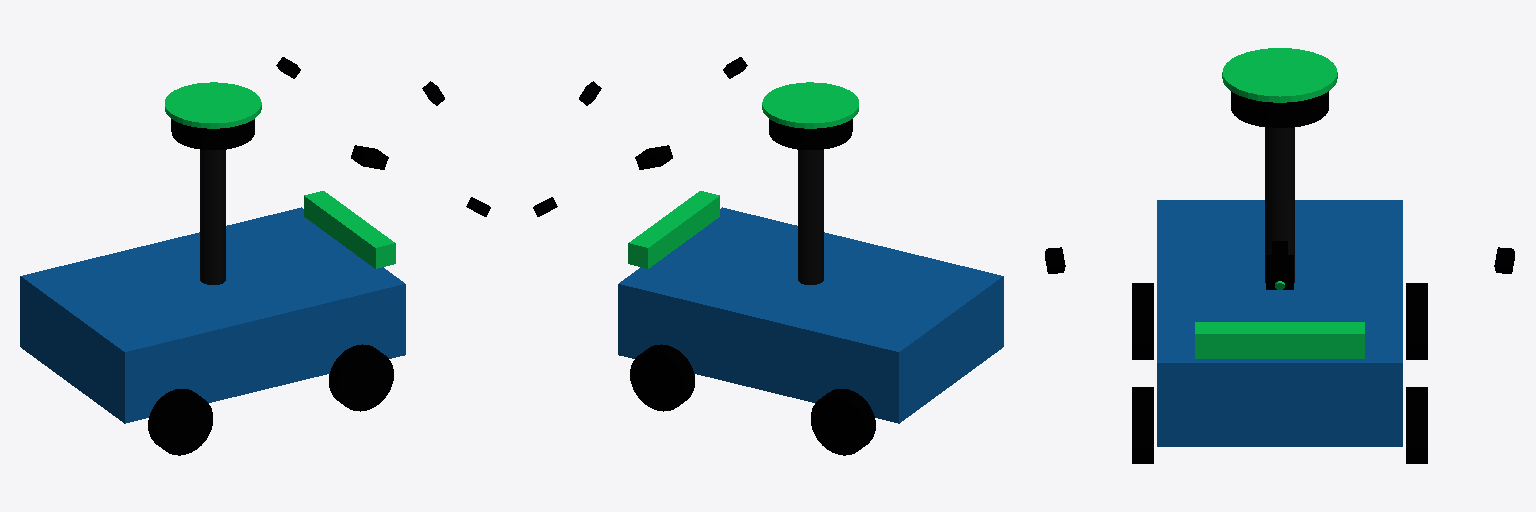
URDF robot description (gazebo_train_tf):
<?xml version="1.0"?>
<robot name="gazebo_train_tf">
  <material name="body_blue">
    <color rgba="0.08 0.38 0.62 1"/>
  </material>
  <material name="dark_gray">
    <color rgba="0.08 0.08 0.08 1"/>
  </material>
  <material name="black">
    <color rgba="0.01 0.01 0.01 1"/>
  </material>
  <material name="sensor_green">
    <color rgba="0.05 0.8 0.35 1"/>
  </material>

  <link name="base_footprint"/>

  <link name="base_link">
    <visual name="body">
      <origin xyz="0 0 0.25" rpy="0 0 0"/>
      <geometry>
        <box size="1.40 0.90 0.34"/>
      </geometry>
      <material name="body_blue"/>
    </visual>
    <visual name="front_sensor_bar">
      <origin xyz="0.68 0 0.50" rpy="0 0 0"/>
      <geometry>
        <box size="0.10 0.62 0.10"/>
      </geometry>
      <material name="sensor_green"/>
    </visual>
  </link>

  <joint name="base_joint" type="fixed">
    <parent link="base_footprint"/>
    <child link="base_link"/>
    <origin xyz="0 0 0.05" rpy="0 0 0"/>
  </joint>

  <link name="front_left_wheel">
    <visual>
      <origin xyz="0 0 0" rpy="1.5708 0 0"/>
      <geometry>
        <cylinder radius="0.14" length="0.08"/>
      </geometry>
      <material name="black"/>
    </visual>
  </link>
  <joint name="front_left_wheel_joint" type="fixed">
    <parent link="base_link"/>
    <child link="front_left_wheel"/>
    <origin xyz="0.45 0.50 0.05" rpy="0 0 0"/>
  </joint>

  <link name="front_right_wheel">
    <visual>
      <origin xyz="0 0 0" rpy="1.5708 0 0"/>
      <geometry>
        <cylinder radius="0.14" length="0.08"/>
      </geometry>
      <material name="black"/>
    </visual>
  </link>
  <joint name="front_right_wheel_joint" type="fixed">
    <parent link="base_link"/>
    <child link="front_right_wheel"/>
    <origin xyz="0.45 -0.50 0.05" rpy="0 0 0"/>
  </joint>

  <link name="rear_left_wheel">
    <visual>
      <origin xyz="0 0 0" rpy="1.5708 0 0"/>
      <geometry>
        <cylinder radius="0.14" length="0.08"/>
      </geometry>
      <material name="black"/>
    </visual>
  </link>
  <joint name="rear_left_wheel_joint" type="fixed">
    <parent link="base_link"/>
    <child link="rear_left_wheel"/>
    <origin xyz="-0.45 0.50 0.05" rpy="0 0 0"/>
  </joint>

  <link name="rear_right_wheel">
    <visual>
      <origin xyz="0 0 0" rpy="1.5708 0 0"/>
      <geometry>
        <cylinder radius="0.14" length="0.08"/>
      </geometry>
      <material name="black"/>
    </visual>
  </link>
  <joint name="rear_right_wheel_joint" type="fixed">
    <parent link="base_link"/>
    <child link="rear_right_wheel"/>
    <origin xyz="-0.45 -0.50 0.05" rpy="0 0 0"/>
  </joint>

  <link name="sensor_mast">
    <visual>
      <origin xyz="0 0 0" rpy="0 0 0"/>
      <geometry>
        <cylinder radius="0.055" length="0.72"/>
      </geometry>
      <material name="dark_gray"/>
    </visual>
  </link>
  <joint name="sensor_mast_joint" type="fixed">
    <parent link="base_link"/>
    <child link="sensor_mast"/>
    <origin xyz="0 0 0.76" rpy="0 0 0"/>
  </joint>

  <link name="laser_link">
    <visual name="lidar_body">
      <origin xyz="0 0 0" rpy="0 0 0"/>
      <geometry>
        <cylinder radius="0.18" length="0.12"/>
      </geometry>
      <material name="black"/>
    </visual>
    <visual name="lidar_ring">
      <origin xyz="0 0 0.07" rpy="0 0 0"/>
      <geometry>
        <cylinder radius="0.21" length="0.025"/>
      </geometry>
      <material name="sensor_green"/>
    </visual>
  </link>
  <joint name="lidar_joint" type="fixed">
    <parent link="sensor_mast"/>
    <child link="laser_link"/>
    <origin xyz="0 0 0.42" rpy="0 0 0"/>
  </joint>

  <link name="camera_link">
    <visual>
      <origin xyz="0 0 0" rpy="0 0 0"/>
      <geometry>
        <box size="0.12 0.10 0.06"/>
      </geometry>
      <material name="black"/>
    </visual>
    <visual name="camera_lens_visual">
      <origin xyz="0.064 0 0" rpy="0 1.5708 0"/>
      <geometry>
        <cylinder radius="0.018" length="0.012"/>
      </geometry>
      <material name="sensor_green"/>
    </visual>
  </link>
  <joint name="camera_joint" type="fixed">
    <parent link="base_link"/>
    <child link="camera_link"/>
    <origin xyz="0.78 0 0.82" rpy="0 0.38 0"/>
  </joint>

  <link name="camera_lens_link"/>
  <joint name="camera_rgb_joint" type="fixed">
    <parent link="camera_link"/>
    <child link="camera_lens_link"/>
    <origin xyz="0.06 0 0" rpy="0 0 0"/>
  </joint>

  <link name="left_side_camera_link">
    <visual>
      <origin xyz="0 0 0" rpy="0 0 0"/>
      <geometry>
        <box size="0.08 0.06 0.05"/>
      </geometry>
      <material name="black"/>
    </visual>
  </link>
  <joint name="left_side_camera_joint" type="fixed">
    <parent link="base_link"/>
    <child link="left_side_camera_link"/>
    <origin xyz="0.85 0.82 0.90" rpy="0 0.65 -0.20"/>
  </joint>

  <link name="right_side_camera_link">
    <visual>
      <origin xyz="0 0 0" rpy="0 0 0"/>
      <geometry>
        <box size="0.08 0.06 0.05"/>
      </geometry>
      <material name="black"/>
    </visual>
  </link>
  <joint name="right_side_camera_joint" type="fixed">
    <parent link="base_link"/>
    <child link="right_side_camera_link"/>
    <origin xyz="0.85 -0.82 0.90" rpy="0 0.65 0.20"/>
  </joint>

  <link name="ground_camera_link">
    <visual>
      <origin xyz="0 0 0" rpy="0 0 0"/>
      <geometry>
        <box size="0.08 0.06 0.05"/>
      </geometry>
      <material name="black"/>
    </visual>
  </link>
  <joint name="ground_camera_joint" type="fixed">
    <parent link="base_link"/>
    <child link="ground_camera_link"/>
    <origin xyz="1.10 0 1.05" rpy="0 1.05 0"/>
  </joint>

  <link name="imu_link"/>
  <joint name="imu_joint" type="fixed">
    <parent link="base_link"/>
    <child link="imu_link"/>
    <origin xyz="0 0 0.35" rpy="0 0 0"/>
  </joint>
</robot>

--- Render facts (derived) ---
3 views of the same robot in one strip: view 1: azimuth 30°, elevation 25°; view 2: azimuth 150°, elevation 25°; view 3: azimuth 270°, elevation 25° (orthographic).
Robot: gazebo_train_tf — 14 links, 13 joints (13 fixed); root link base_footprint; default pose: every joint at zero.
Visible links, largest first — view 1: base_link, laser_link, sensor_mast, front_right_wheel, rear_right_wheel, camera_link; view 2: base_link, laser_link, sensor_mast, front_left_wheel, rear_left_wheel, camera_link; view 3: base_link, laser_link, sensor_mast, front_left_wheel, front_right_wheel, rear_left_wheel, rear_right_wheel, camera_link.
Boxes of the visible links, x1,y1,x2,y2 form: base_link: [20, 191, 405, 423]; laser_link: [165, 82, 261, 149]; sensor_mast: [200, 150, 225, 284]; front_right_wheel: [329, 344, 393, 411]; rear_right_wheel: [148, 389, 212, 455]; camera_link: [351, 145, 388, 169]; base_link: [618, 191, 1003, 423]; laser_link: [762, 82, 858, 149]; sensor_mast: [798, 150, 823, 284]; front_left_wheel: [630, 344, 694, 411]; rear_left_wheel: [811, 389, 875, 455]; camera_link: [635, 145, 672, 169]; base_link: [1157, 200, 1402, 446]; laser_link: [1222, 48, 1337, 127]; sensor_mast: [1265, 127, 1294, 282]; front_left_wheel: [1406, 387, 1427, 463]; front_right_wheel: [1132, 387, 1153, 463]; rear_left_wheel: [1406, 283, 1427, 359]; rear_right_wheel: [1132, 283, 1153, 359]; camera_link: [1266, 255, 1293, 289].
Bounding box of the posed robot: 1.84 × 1.72 × 1.35 m (x, y, z).
Geometry: primitives only (box / cylinder / sphere), no mesh files.
